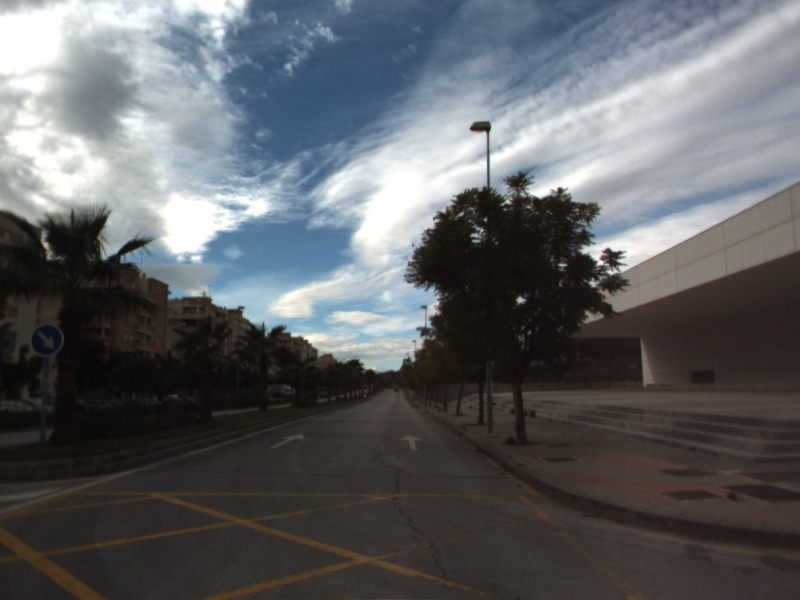STRAIGHT: (269, 431, 306, 450), (397, 432, 425, 452)
